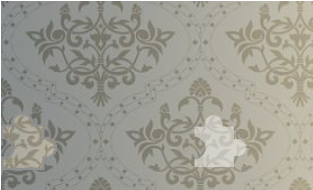target: (189, 114, 250, 172)
